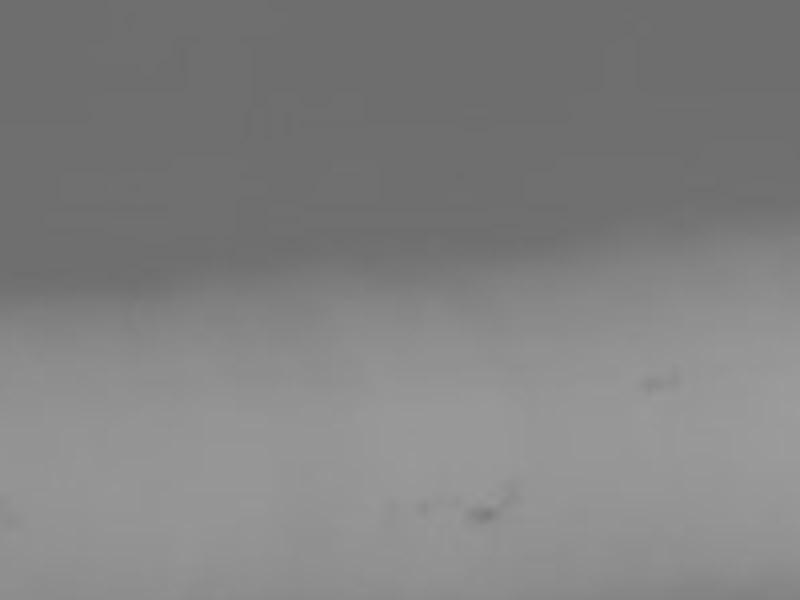defect: (636, 369, 661, 397), (468, 503, 498, 524), (499, 485, 522, 509), (411, 498, 432, 521)
